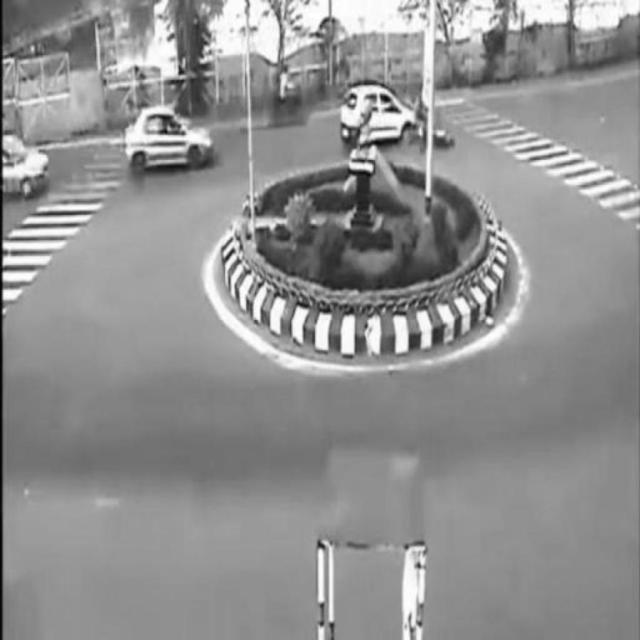accident: (338, 76, 451, 149)
vehicle: (127, 108, 220, 175), (261, 67, 306, 122)
